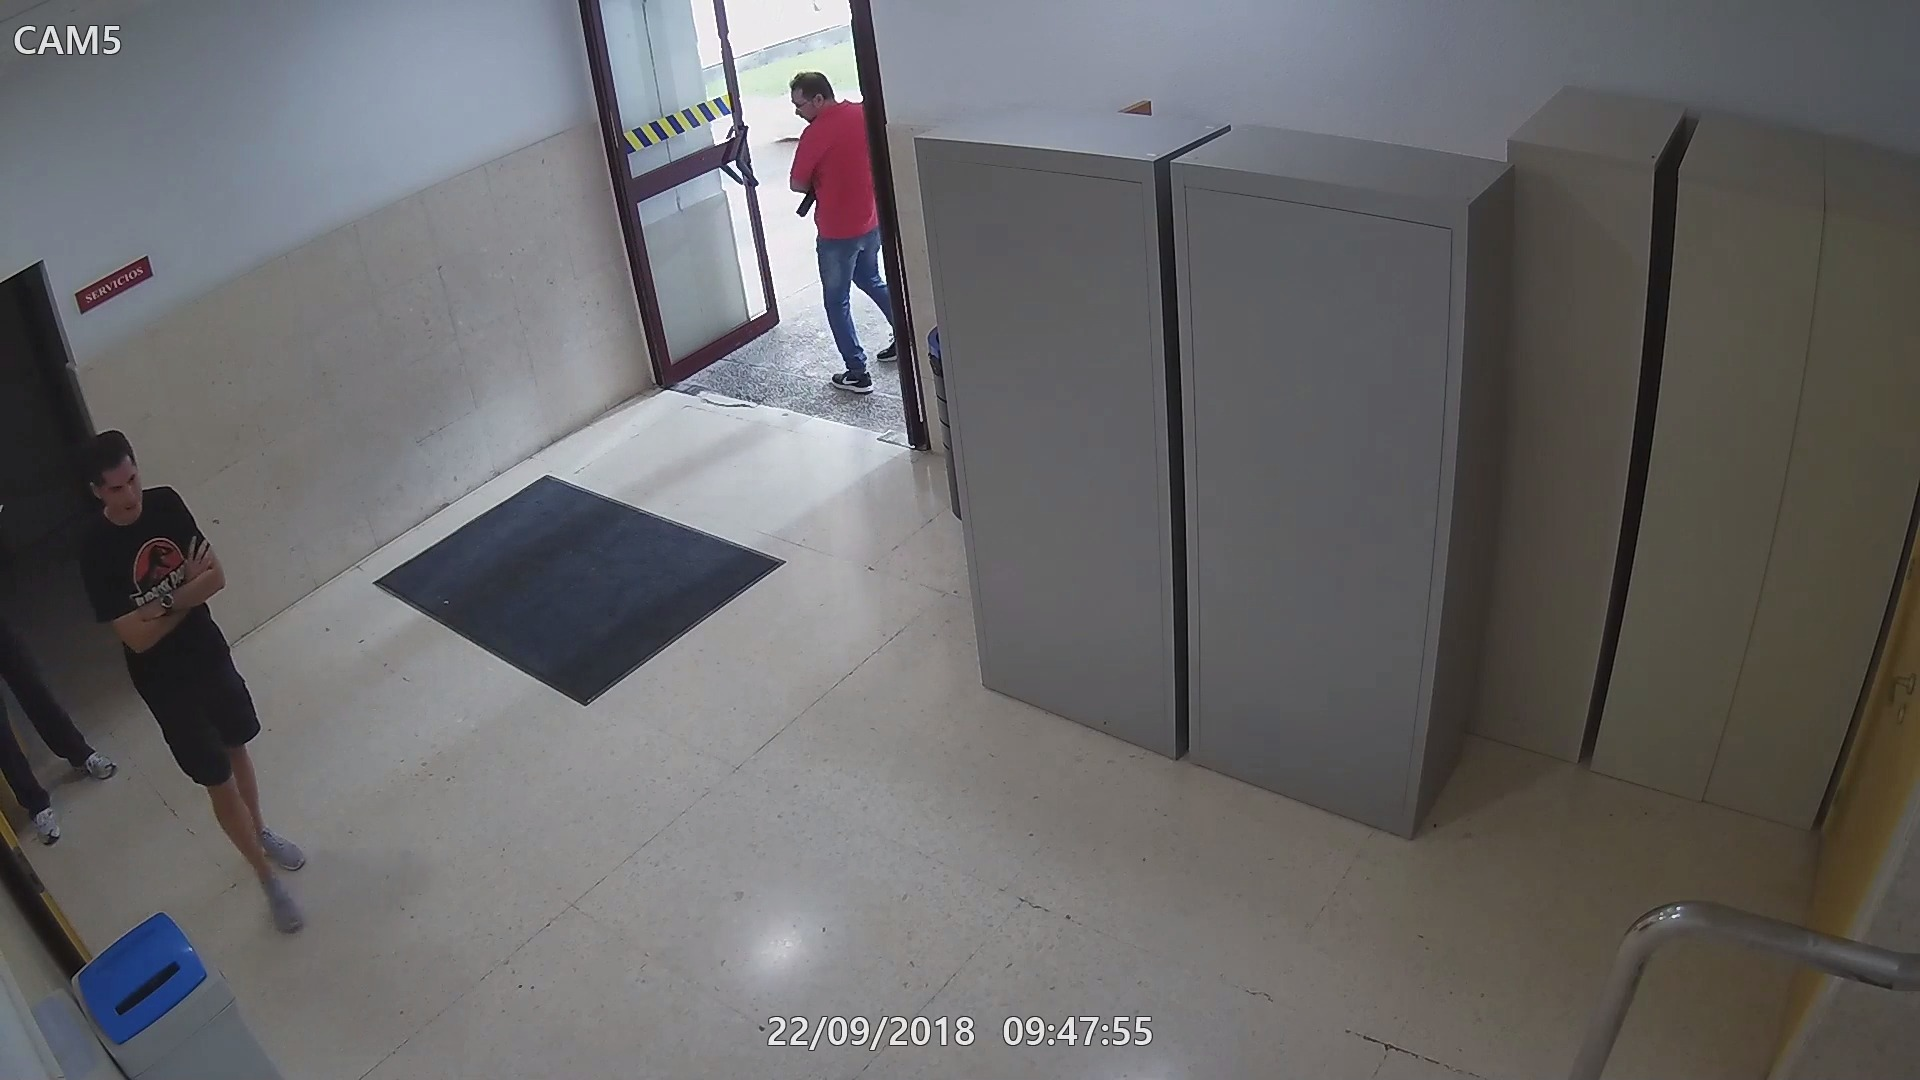Short_rifle: (790, 179, 823, 227)
